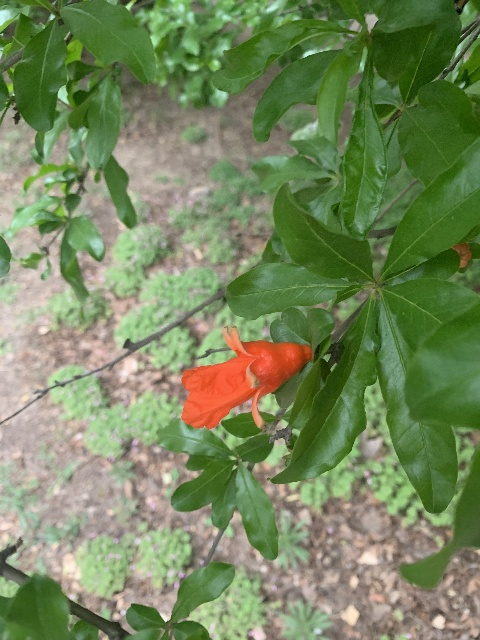bud: (451, 242, 471, 267)
flower: (180, 325, 311, 429)
